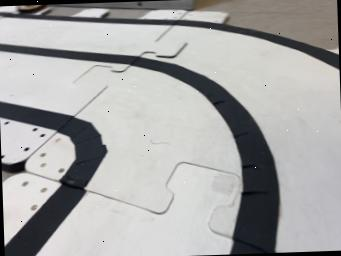street: (0, 14, 341, 256), (0, 14, 341, 256), (0, 14, 341, 256), (0, 14, 341, 256), (0, 14, 341, 256), (0, 14, 341, 256)
